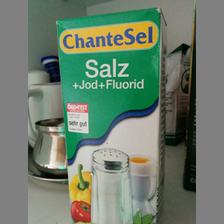spices: (55, 7, 168, 224)
